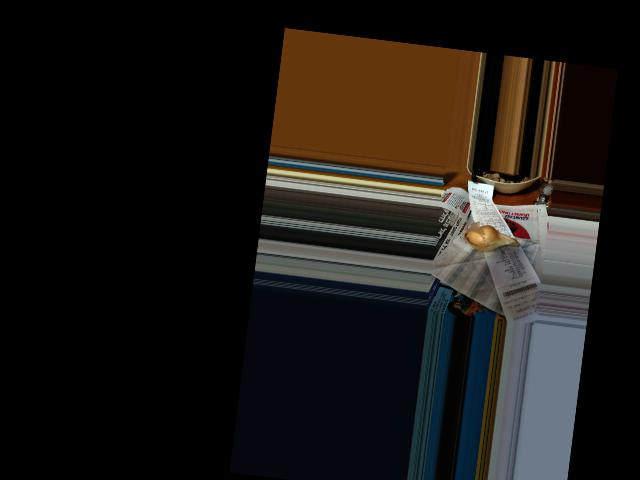onion: (462, 221, 511, 253)
